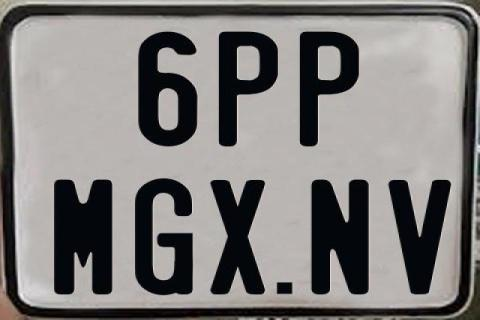0: (135, 30, 197, 146)
G: (134, 176, 195, 294)
M: (53, 178, 114, 294)
N: (308, 178, 370, 294)
P: (297, 29, 359, 150), (216, 29, 275, 149)
V: (387, 179, 451, 297)
X: (207, 178, 268, 296)
